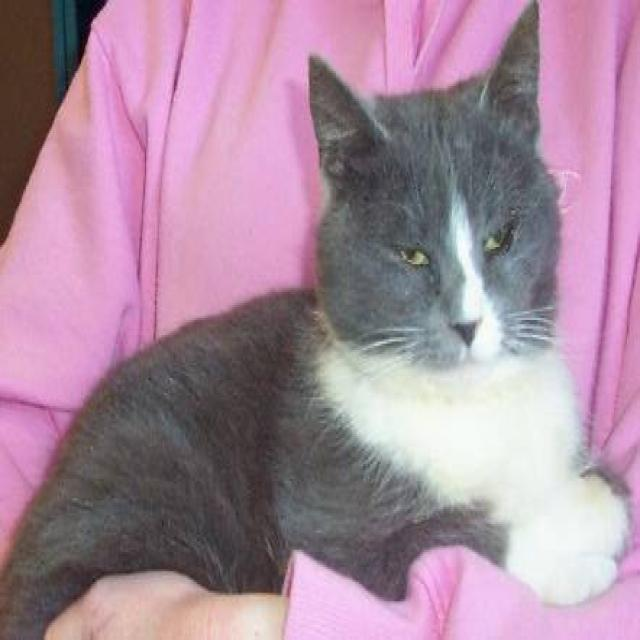cat: (0, 2, 631, 637)
